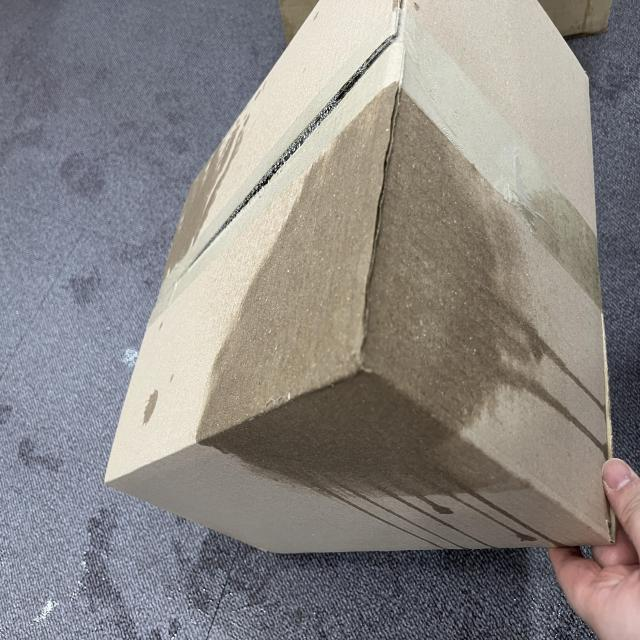wet: (176, 94, 610, 544)
